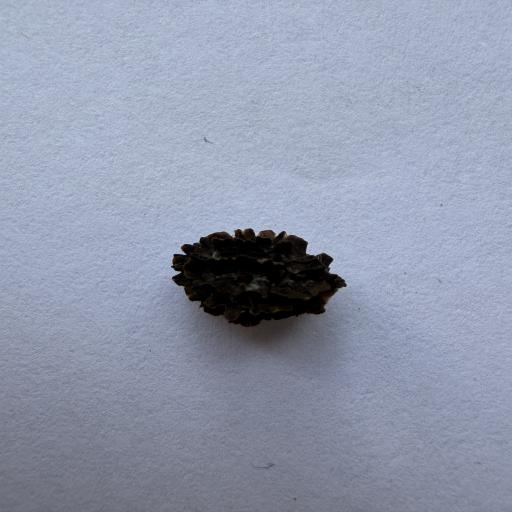papaya_seed: (151, 203, 387, 342)
